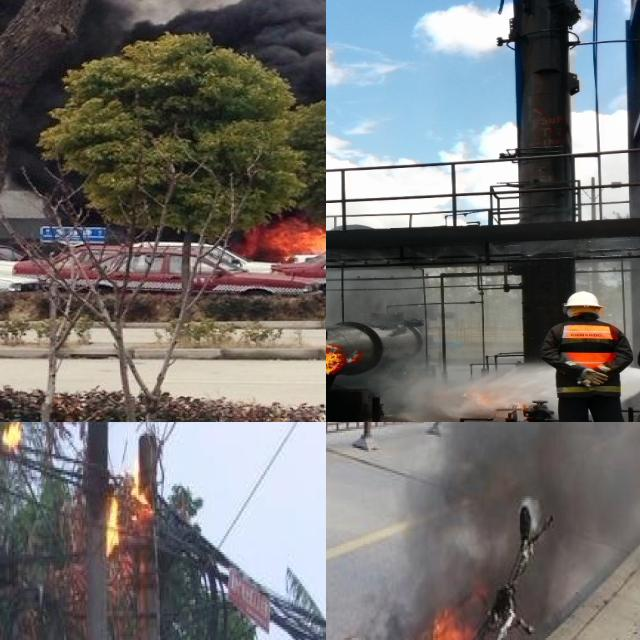fire: (326, 566, 521, 640), (248, 208, 326, 259), (326, 308, 346, 399), (102, 482, 124, 564), (129, 454, 150, 509), (0, 422, 23, 458)
smoke: (121, 0, 326, 241), (399, 422, 640, 615)
